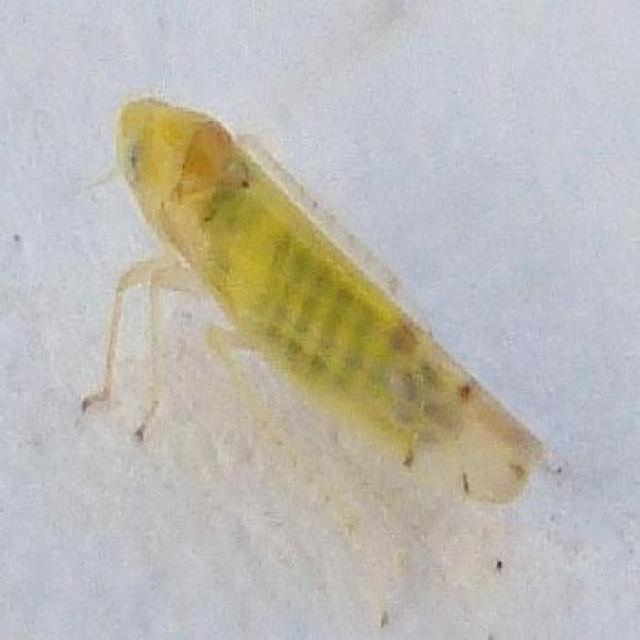green-leafhopper: (81, 94, 550, 630)
